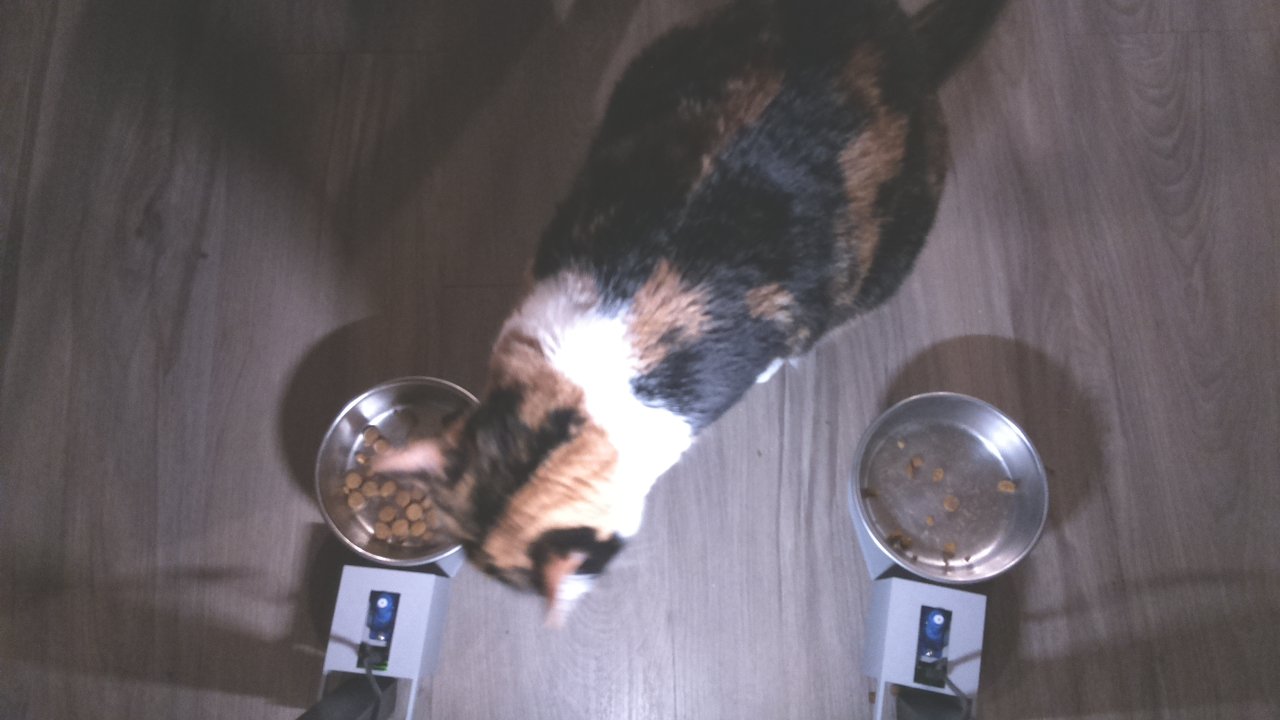bella_eating: (337, 351, 665, 635)
open_bowl: (845, 385, 1052, 587)
